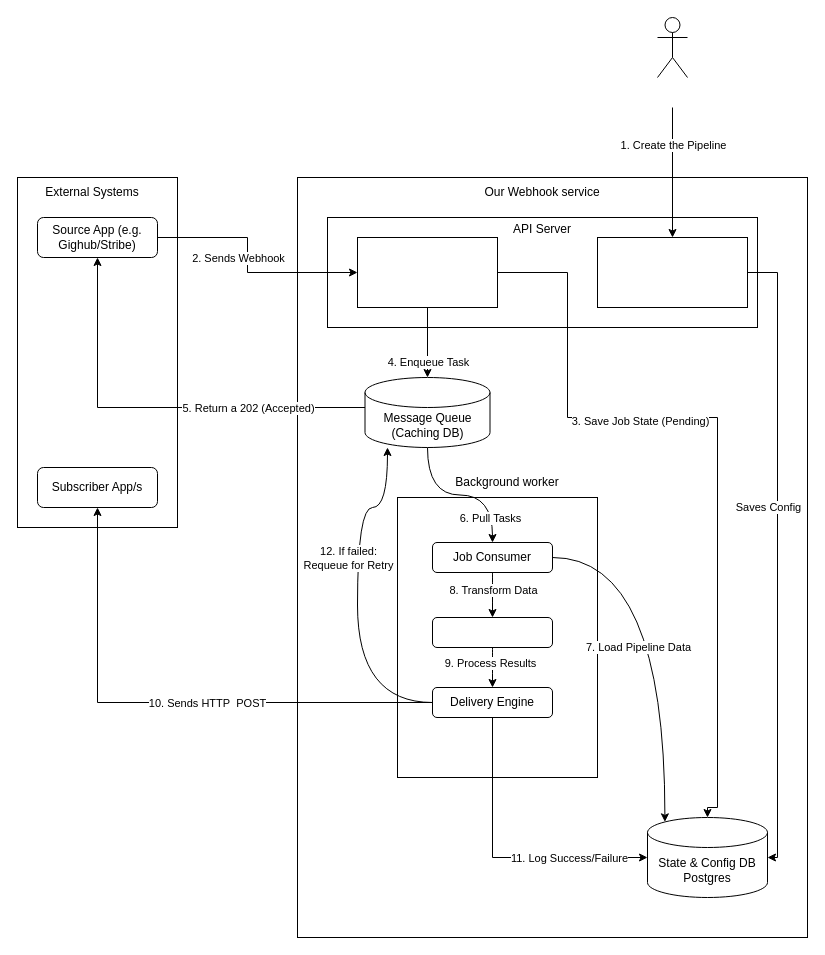
The diagram is 825 pixels wide and 955 high, and some of its shapes have lost their labels. The centre of each missing label's shape, as x and y in pixels:
"Action Transformer" goes at pixel 492 632.
"REST API CRUD & Pipeline status" goes at pixel 672 272.
"User" goes at pixel 672 47.
"Webhook Reciver /webhook/:id" goes at pixel 427 272.
